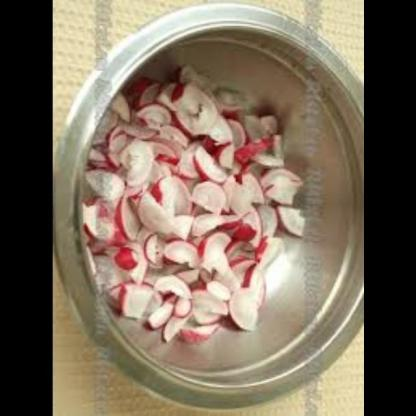rediska: (86, 53, 314, 352)
